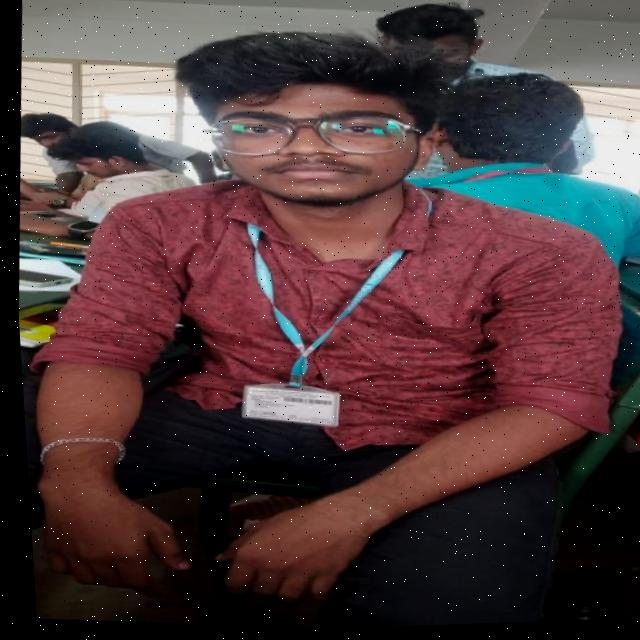id_card: (213, 189, 433, 441)
